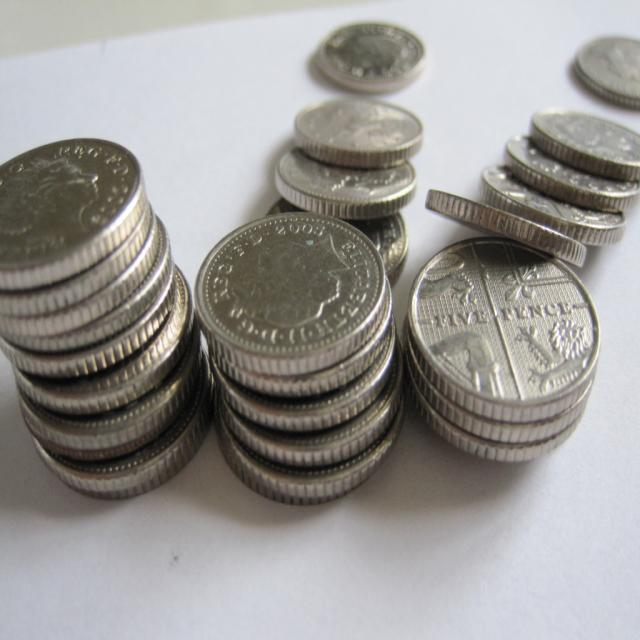Coin: (0, 17, 640, 504)
